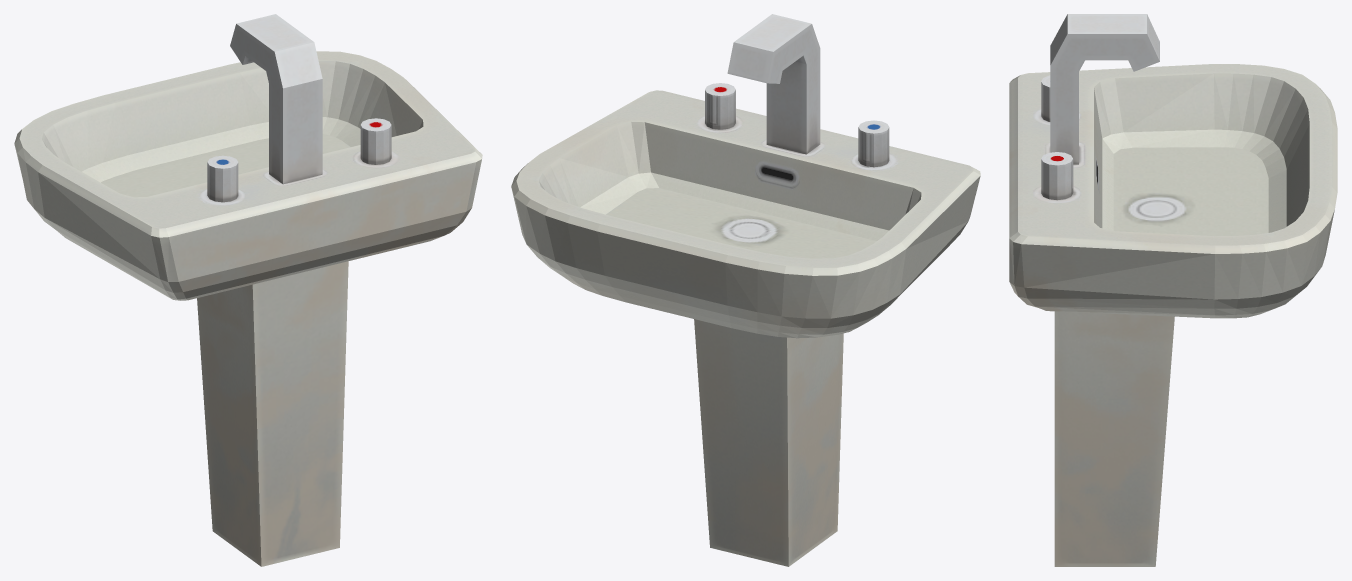
Rendered from P_Washbasin_003_S1_M01.obj.
3 views of the same model, side by side, from view 1: azimuth 30°, elevation 25°; view 2: azimuth 150°, elevation 25°; view 3: azimuth 270°, elevation 25° (orthographic). The views are drawn at different scales.
Size of the model in its own units: 0.8402 by 1.1 by 0.6236.
Materials: 1 (1 with a texture image).
